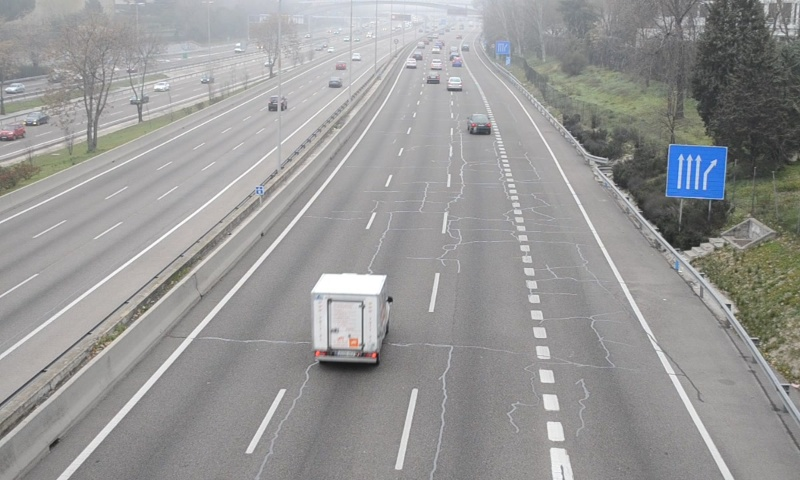car: (469, 112, 492, 134)
small-truck: (312, 274, 392, 366)
